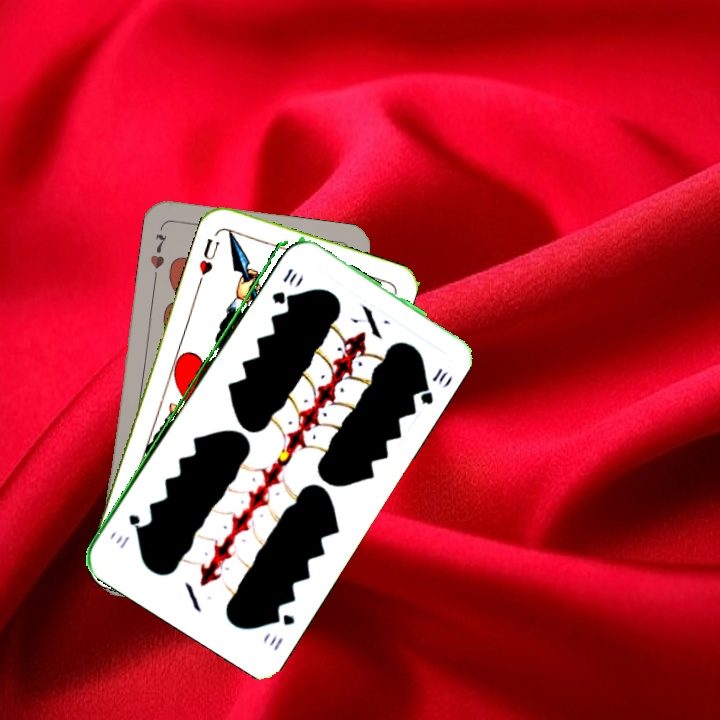G10: (266, 608, 298, 653), (267, 264, 296, 306)
H7: (146, 230, 170, 271)
HU: (194, 234, 222, 286)
